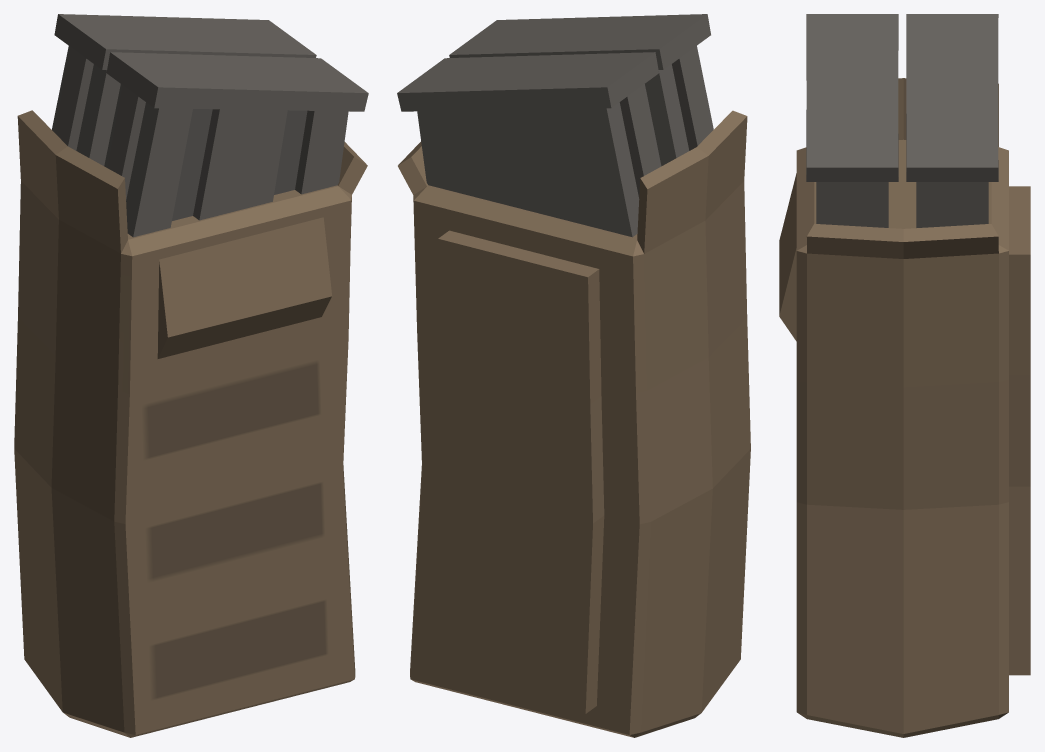
Rendered from Magazine_Pouch_04_SM.FBX.
3 views of the same model, side by side, from view 1: azimuth 30°, elevation 25°; view 2: azimuth 150°, elevation 25°; view 3: azimuth 270°, elevation 25° (orthographic). The views are drawn at different scales.
Visible parts, largest first — view 1: Magazine_Pouch_04_SM; view 2: Magazine_Pouch_04_SM; view 3: Magazine_Pouch_04_SM.
Part boxes in pixels (bbox=[...]): Magazine_Pouch_04_SM: bbox=[14, 14, 368, 737]; Magazine_Pouch_04_SM: bbox=[397, 14, 750, 737]; Magazine_Pouch_04_SM: bbox=[779, 14, 1030, 737].
Size of what is drawn, in the model's own units: 9.24 by 7.55 by 20.9.
